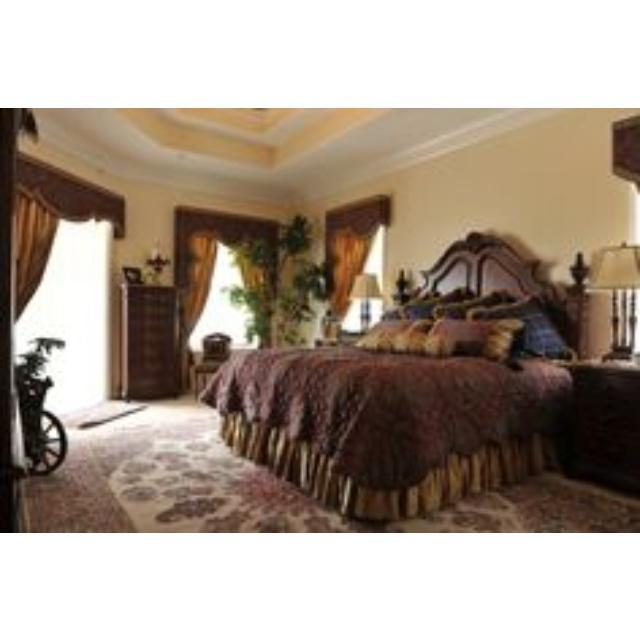bed: (201, 232, 588, 520)
curtain: (14, 152, 125, 316), (176, 208, 278, 345), (326, 194, 390, 317)
dresser: (121, 282, 179, 399)
lamp: (592, 243, 640, 358), (342, 272, 382, 332)
plant: (229, 214, 325, 346)
rug: (25, 398, 640, 532)
table: (562, 367, 640, 491)
